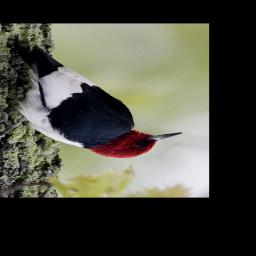Woodpecker: (0, 37, 192, 160)
